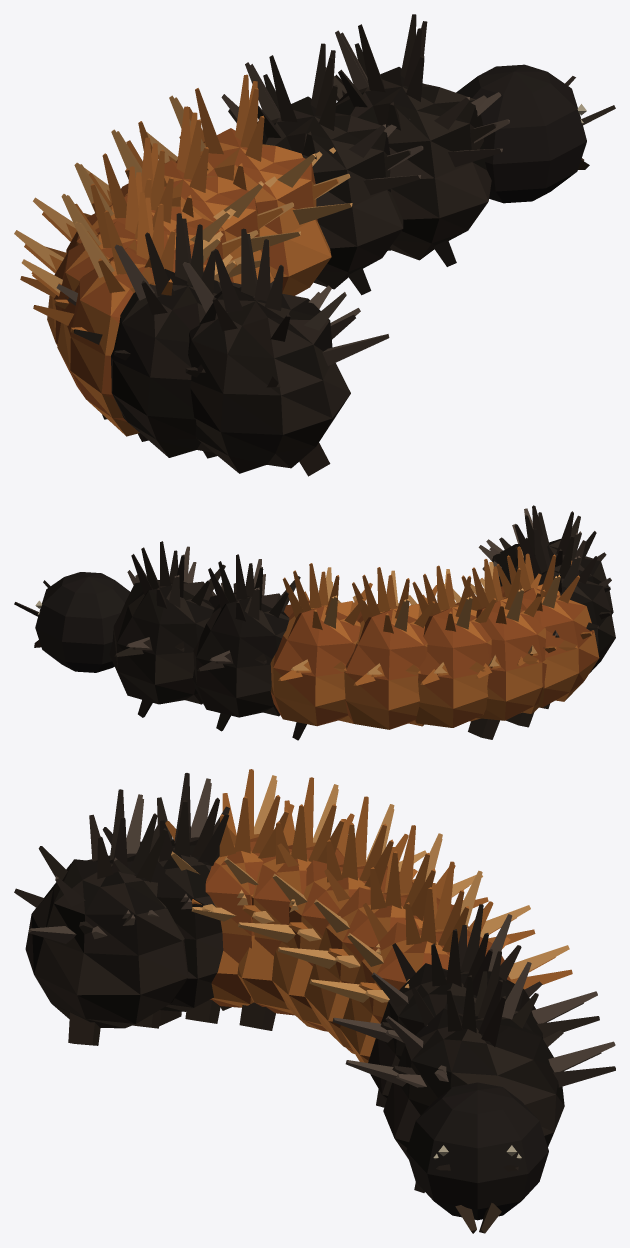
File: creatures-woolly-bear-caterpillar.glb
3 renders of one model, top to bottom at view 1: azimuth 30°, elevation 25°; view 2: azimuth 150°, elevation 25°; view 3: azimuth 270°, elevation 25°, orthographic. The views are drawn at different scales.
Bounding box in the file's own units: 8.43 × 2.77 × 6.82.
